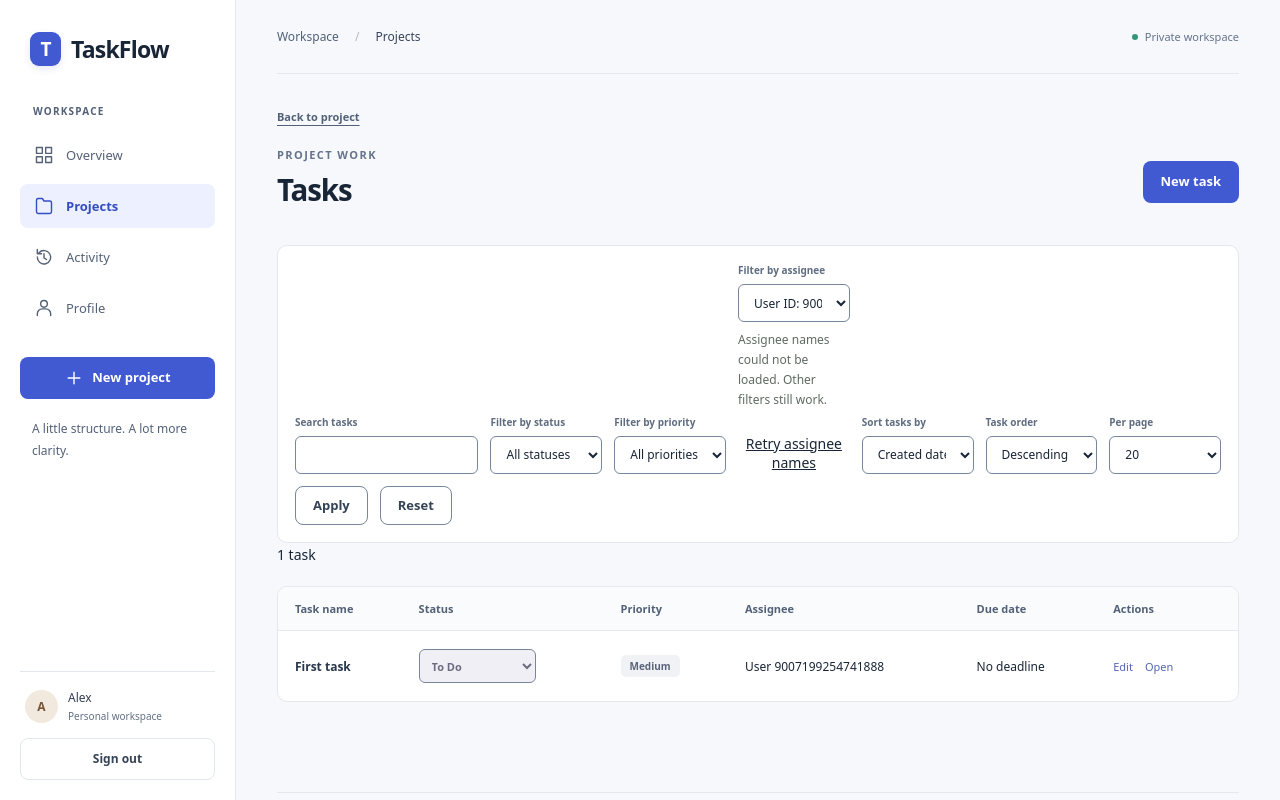
Test: Task pages › preserves an opaque assignee filter while names fail to load and retries names independently
Check: the text "1 task" is shown, box [277, 545, 316, 564]
Check: the button "Retry assignee names" is shown, box [738, 432, 850, 474]
Select "Priority" in the dropdown labelled "Sort tasks by": (918, 455) [862, 436, 974, 474]
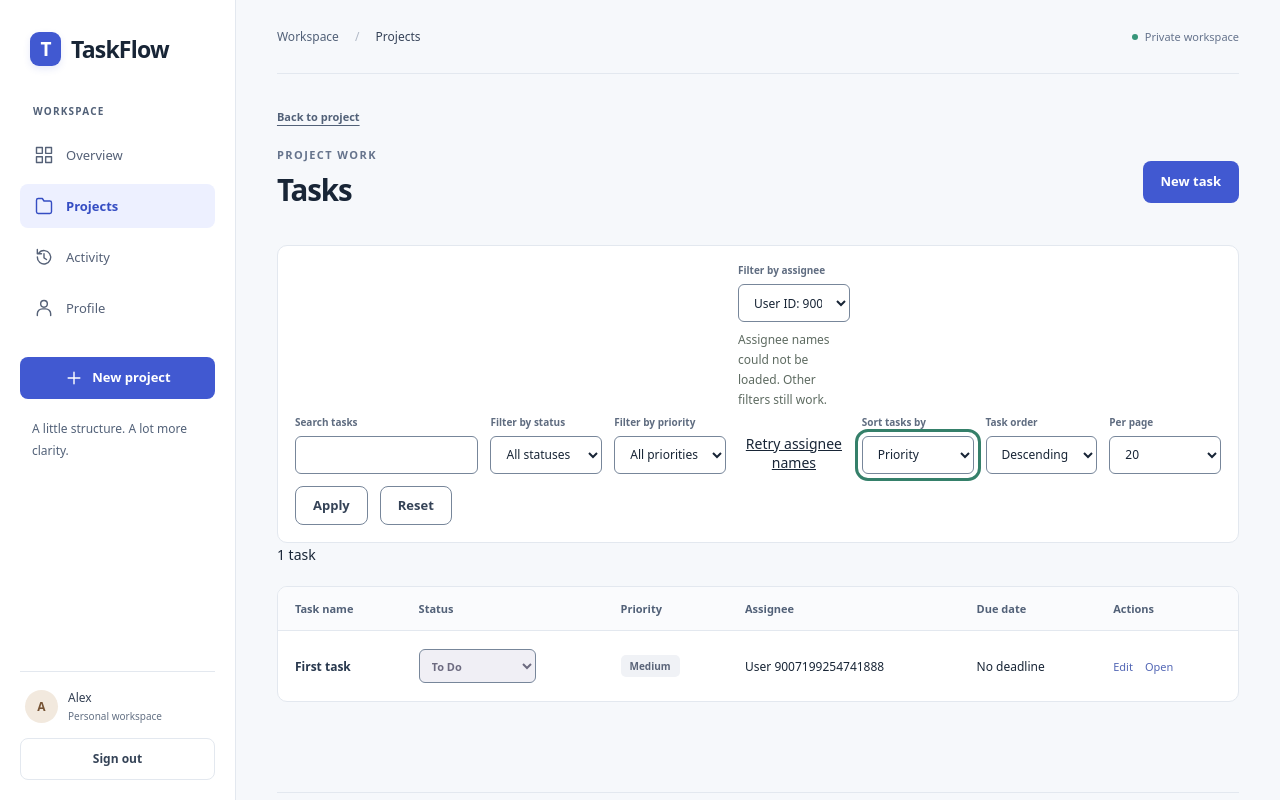
Click the button "Apply": (331, 505) [295, 486, 368, 525]
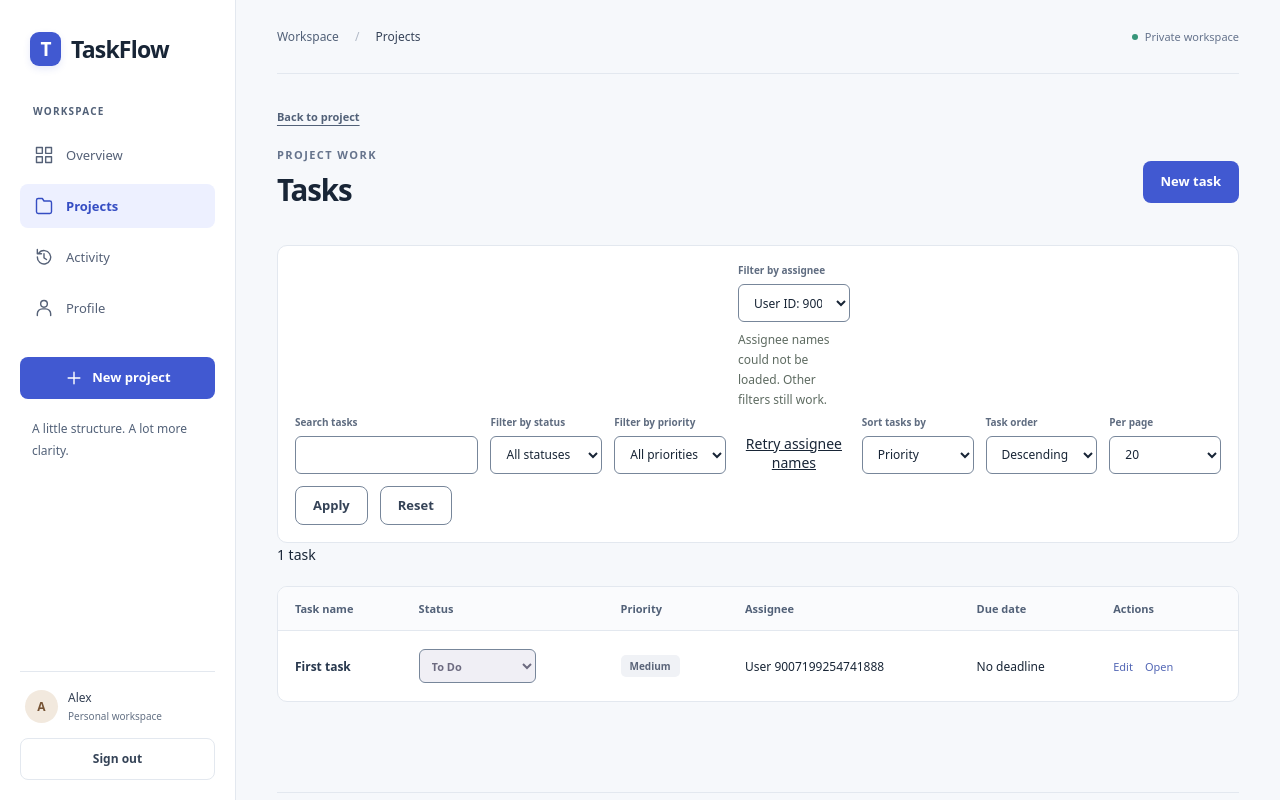
Check: the text "1 task" is shown, box [277, 545, 316, 564]
Click the button "Retry assignee names": (794, 453) [738, 432, 850, 474]
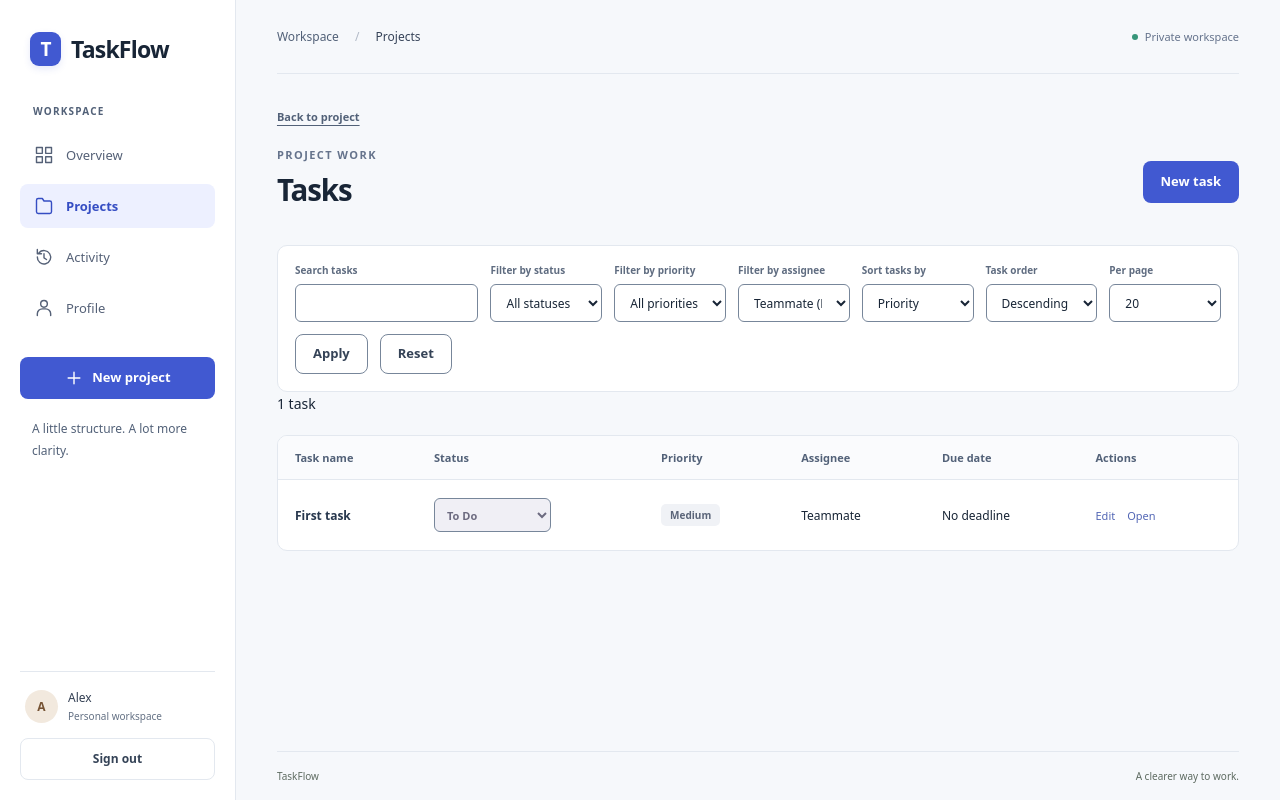
Check: the dropdown labelled "Filter by assignee" shows "Teammate (Member)", box [738, 284, 850, 322]
